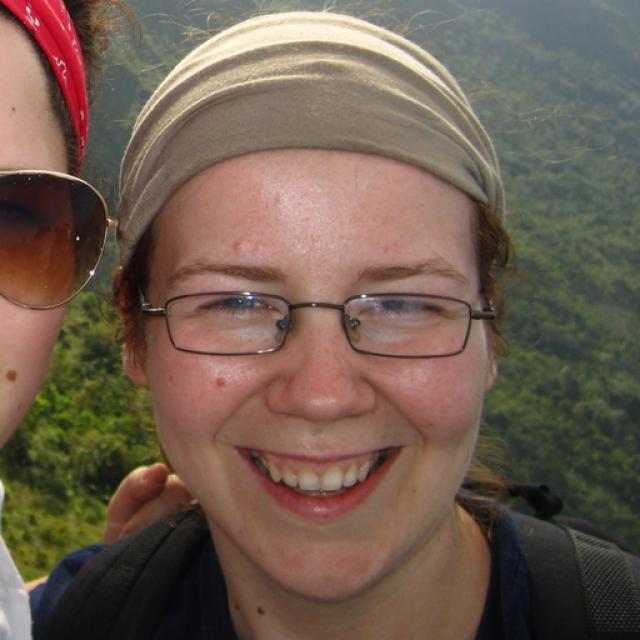Acne: (220, 232, 253, 261), (207, 366, 236, 392), (263, 190, 296, 207)
